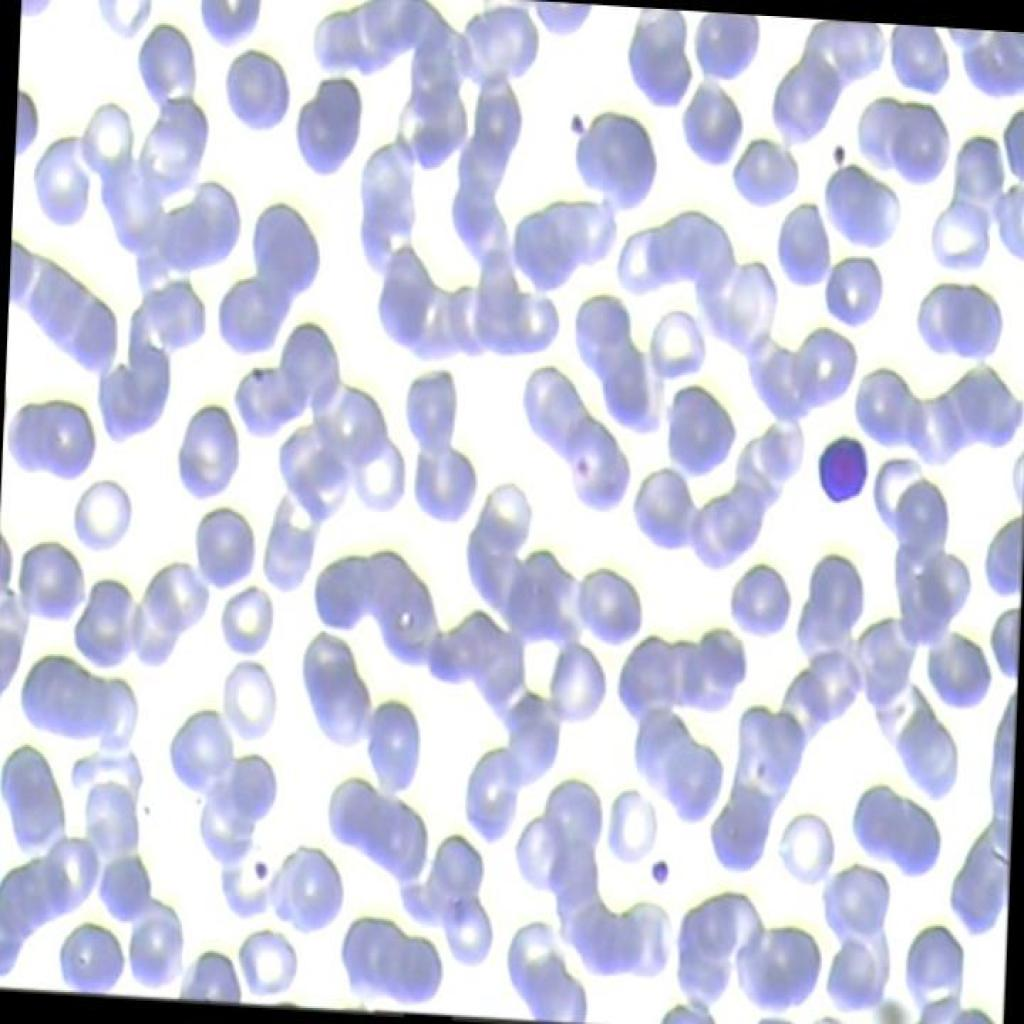Limfosit: (810, 425, 870, 515)
Platelet: (556, 101, 592, 146), (646, 852, 677, 896), (249, 839, 276, 887), (813, 134, 852, 166)
